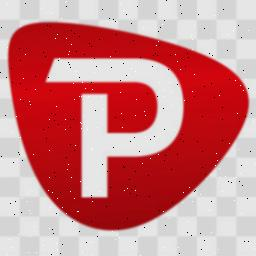p: (38, 50, 186, 206)
